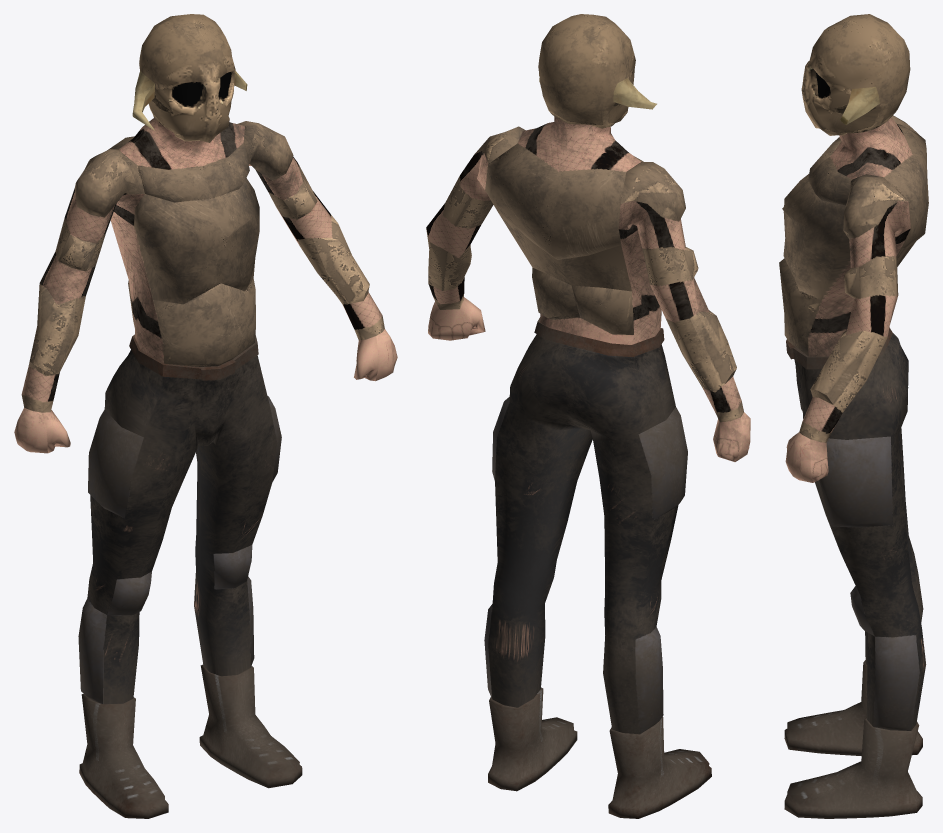
The model's file is Anim_idle_npc1.0018.obj.
3 views of the same model, side by side, from view 1: azimuth 30°, elevation 25°; view 2: azimuth 150°, elevation 25°; view 3: azimuth 270°, elevation 25° (orthographic).
Parts seen in each view (by area): view 1: NPC2; view 2: NPC2; view 3: NPC2.
Boxes of the visible parts, x1,y1,x2,y2 form: NPC2: (14,14,397,818); NPC2: (426,14,750,818); NPC2: (779,14,928,818).
Size of the model in its own units: 4.64 by 9.66 by 1.73.
